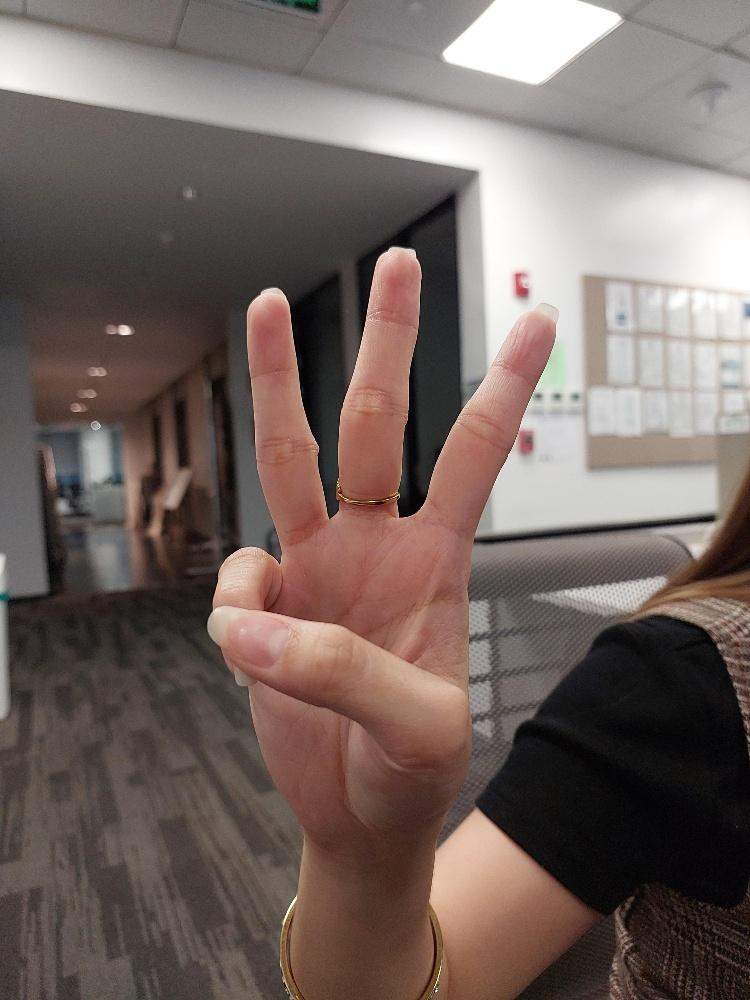w: (203, 243, 565, 853)
